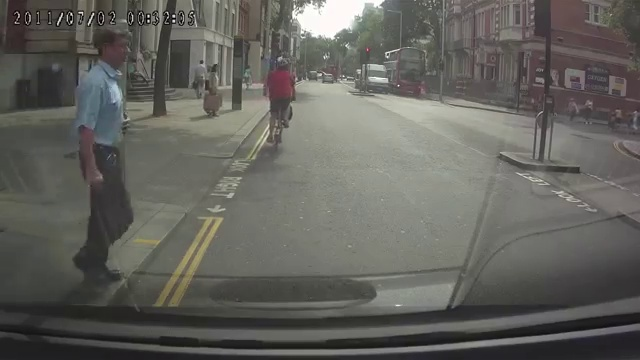cyclist_back: (264, 55, 295, 161)
